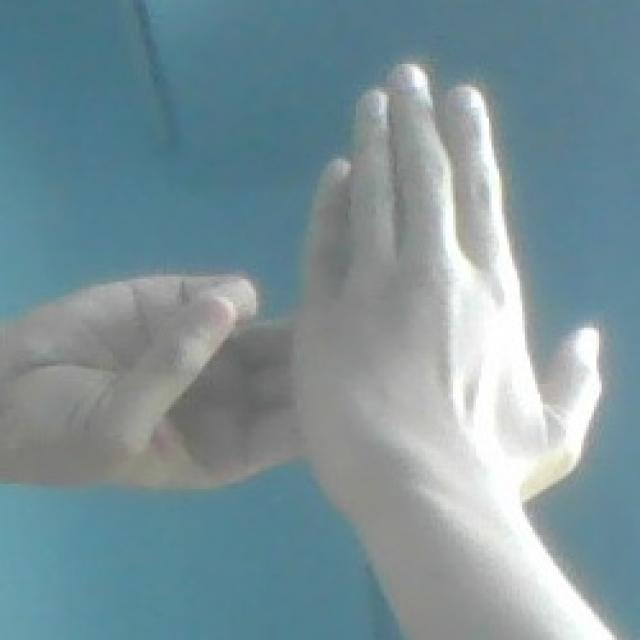Alphabet-M: (0, 46, 594, 575)
